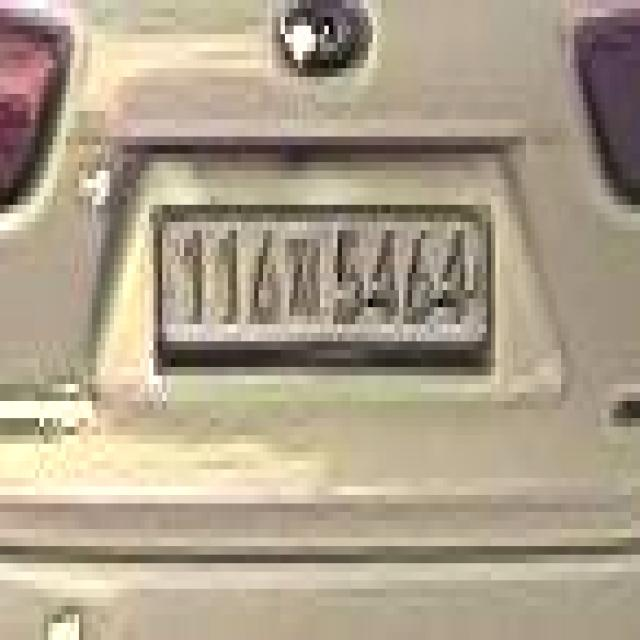illegal_plate: (150, 198, 502, 389)
